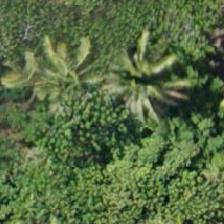coconut_tree: (19, 33, 109, 123), (94, 33, 184, 123)
